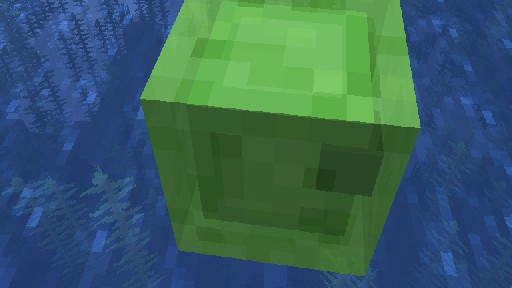slime: (139, 0, 421, 276)
